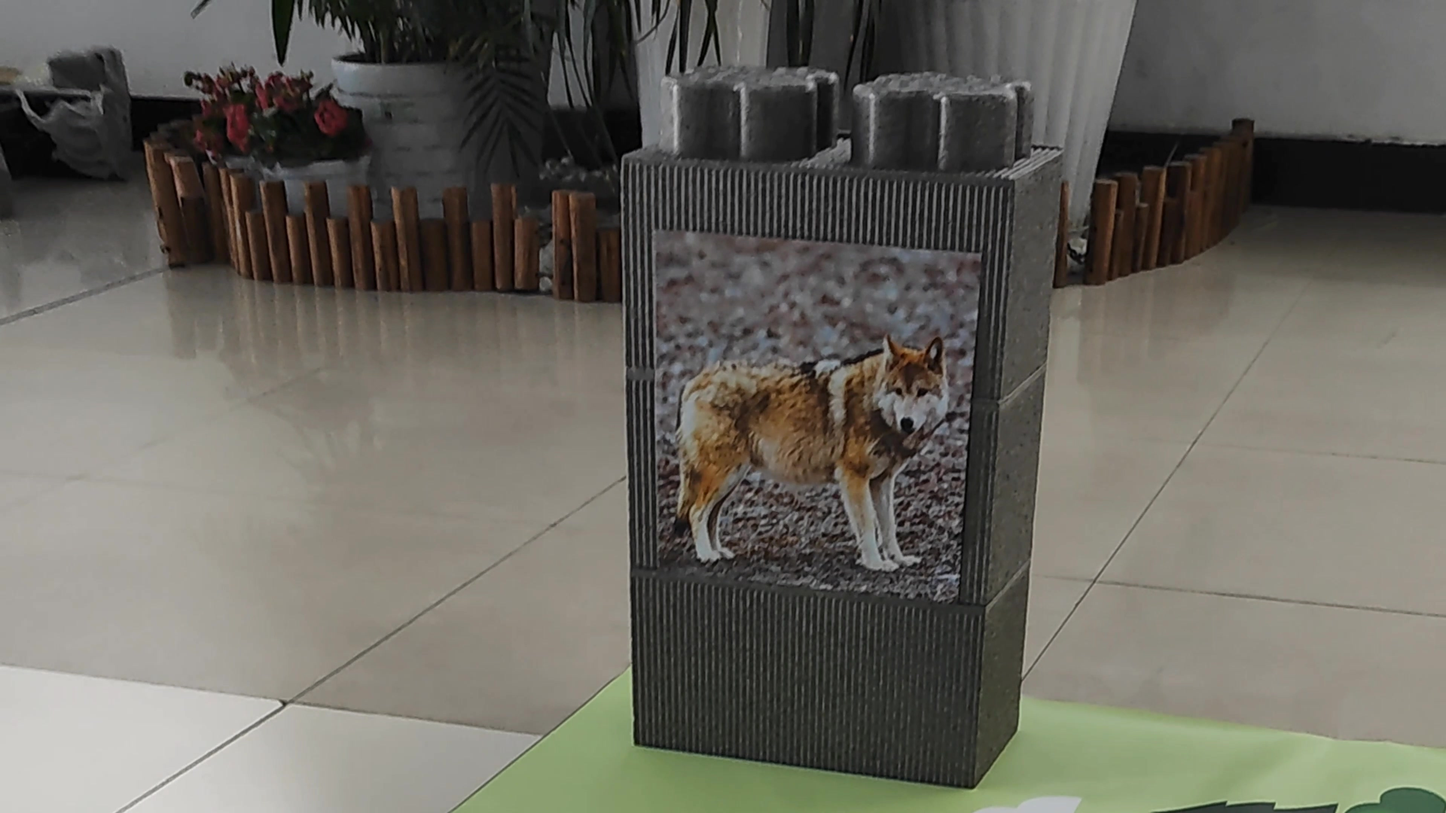wolf: (667, 327, 958, 580)
